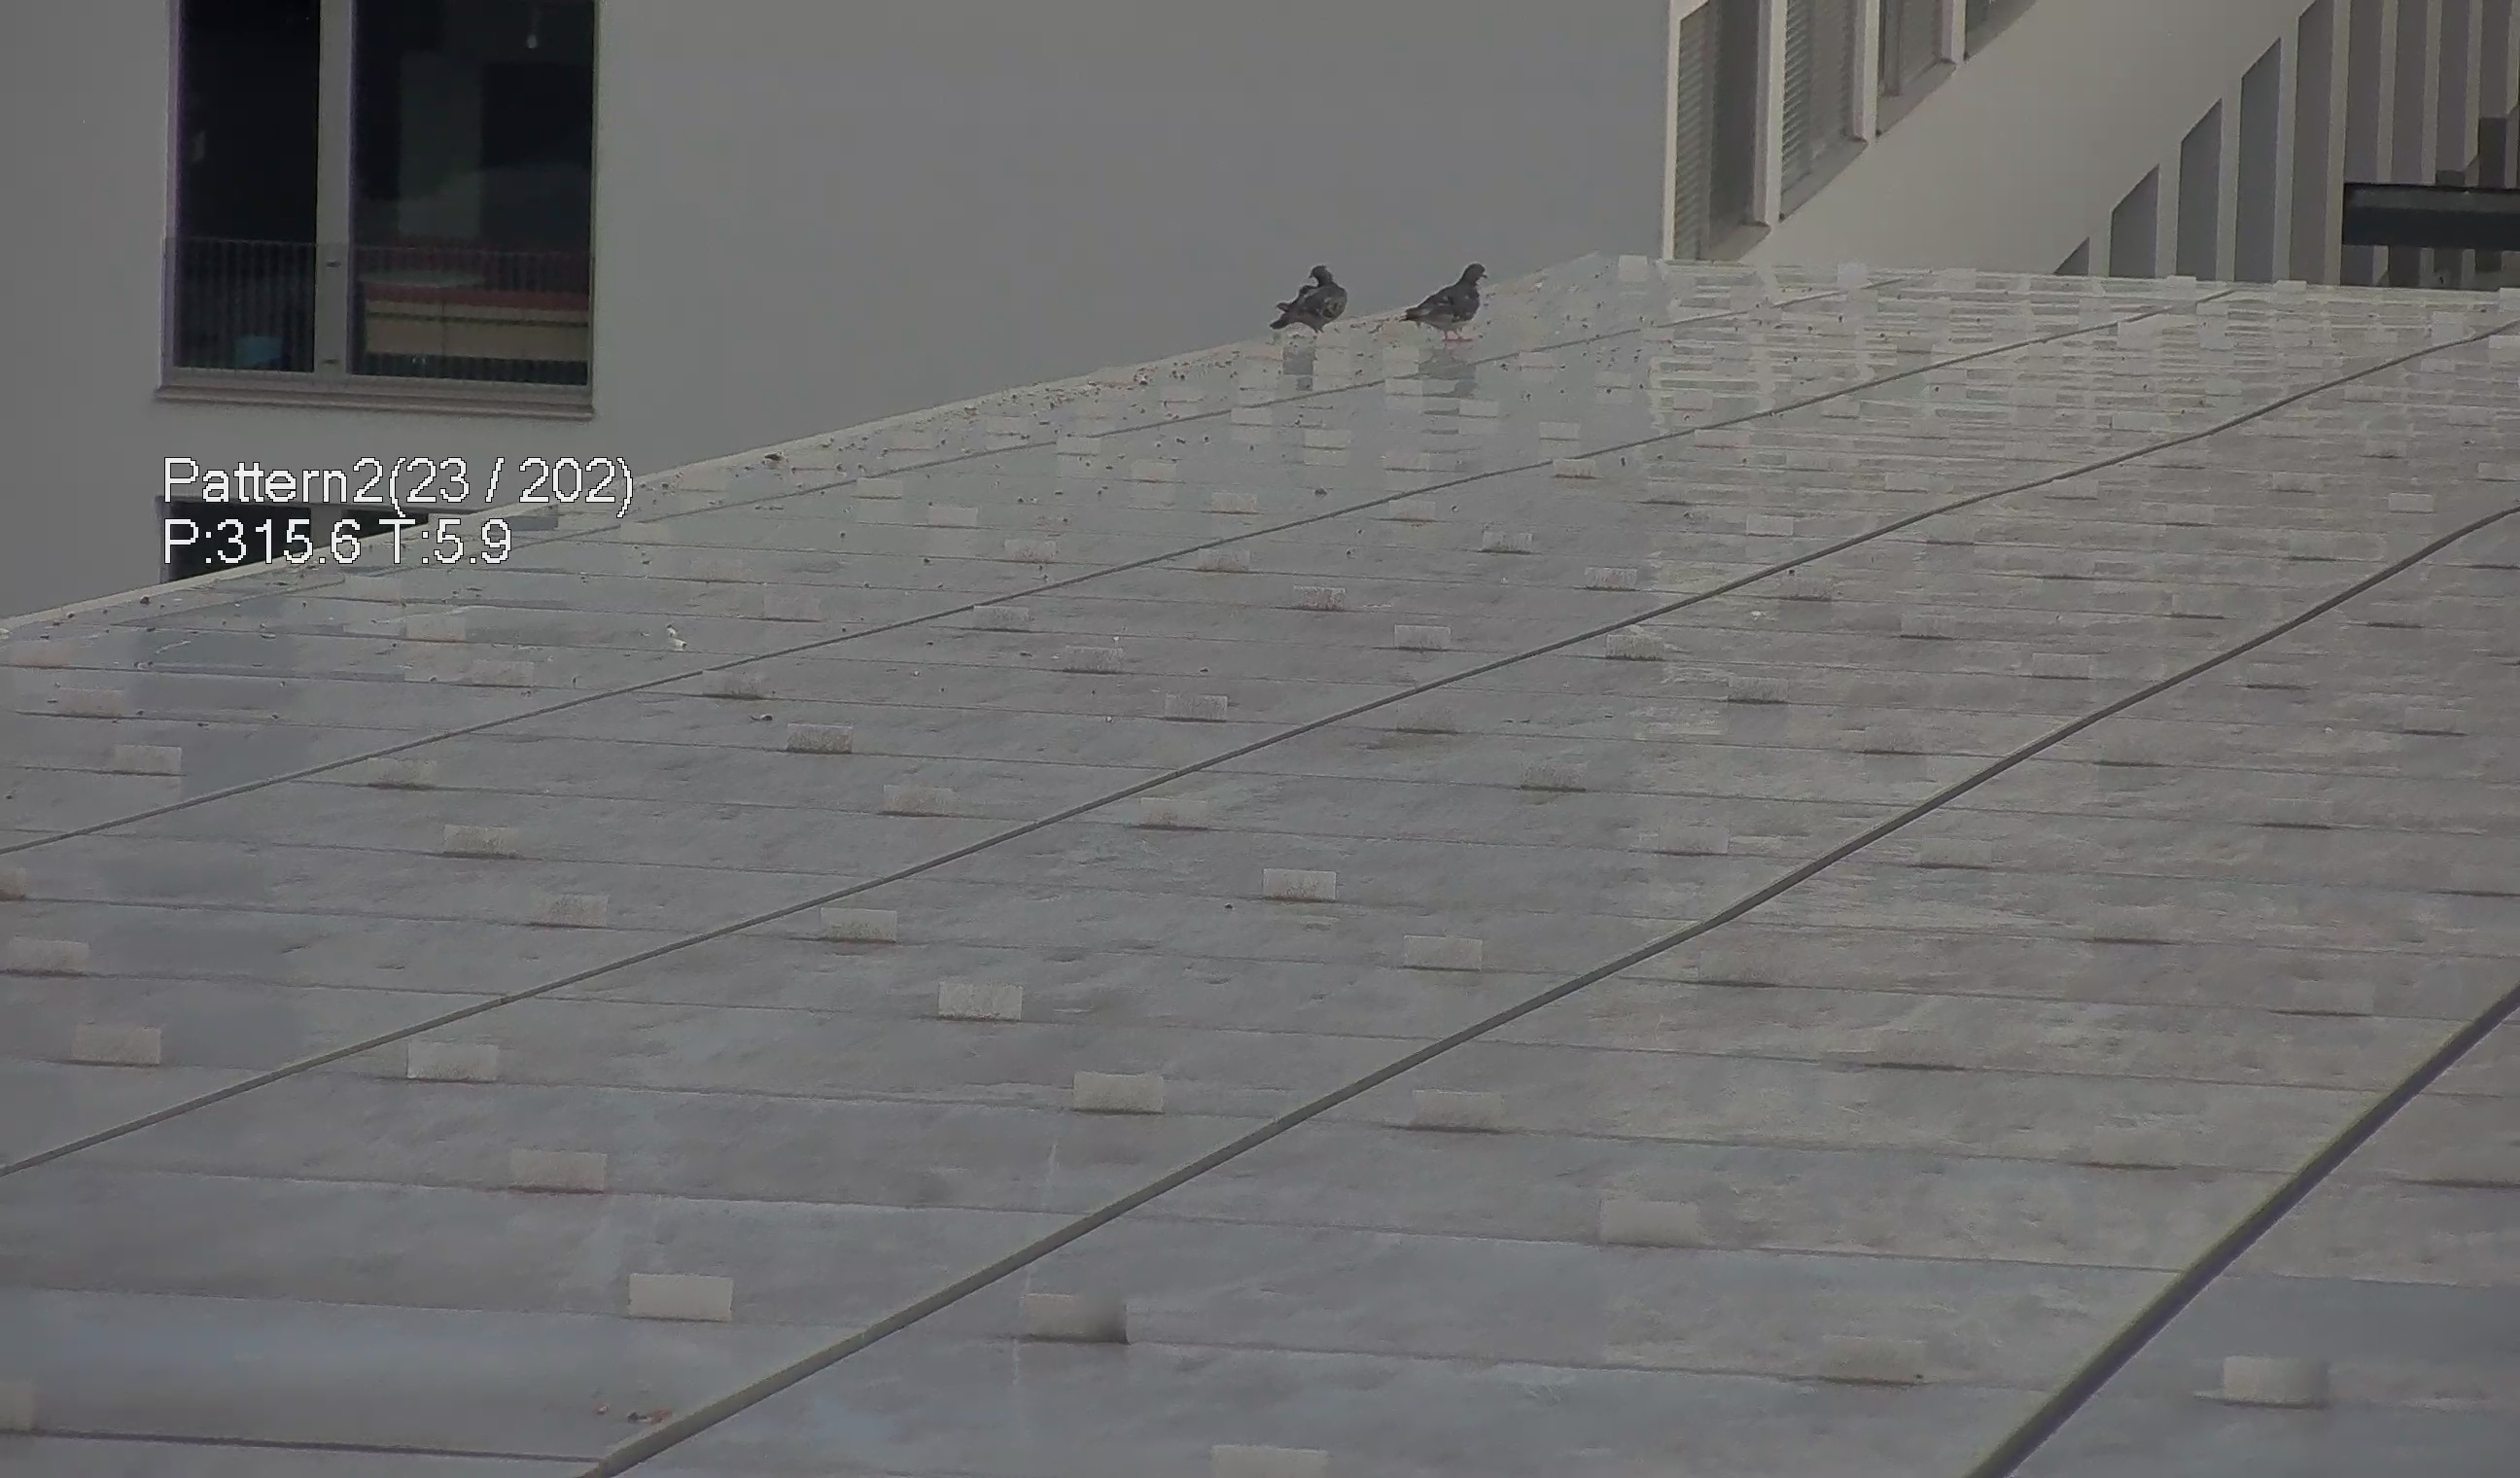Pigeon: (1372, 252, 1497, 343), (1268, 250, 1356, 343)
